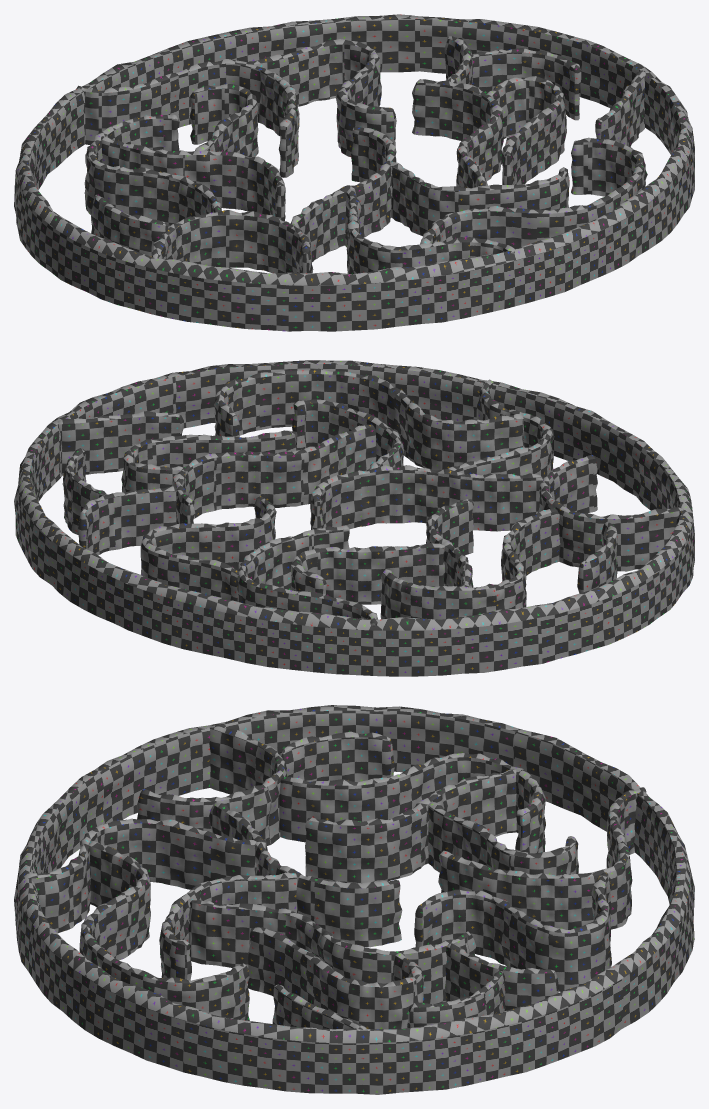
Rendered from map-test.glb.
The picture shows the model from 3 angles, top to bottom: view 1: azimuth 30°, elevation 25°; view 2: azimuth 150°, elevation 25°; view 3: azimuth 270°, elevation 25°; orthographic projection. The views are drawn at different scales.
Parts seen in each view (by area): view 1: Walls; view 2: Walls; view 3: Walls.
Boxes of the visible parts, x1=… form: Walls: x1=14, y1=14, x2=694, y2=331; Walls: x1=14, y1=360, x2=694, y2=676; Walls: x1=14, y1=705, x2=694, y2=1094.
Size of what is drawn, in the model's own units: 23.98 by 2.12 by 20.69.
1 material, 1 textured.
